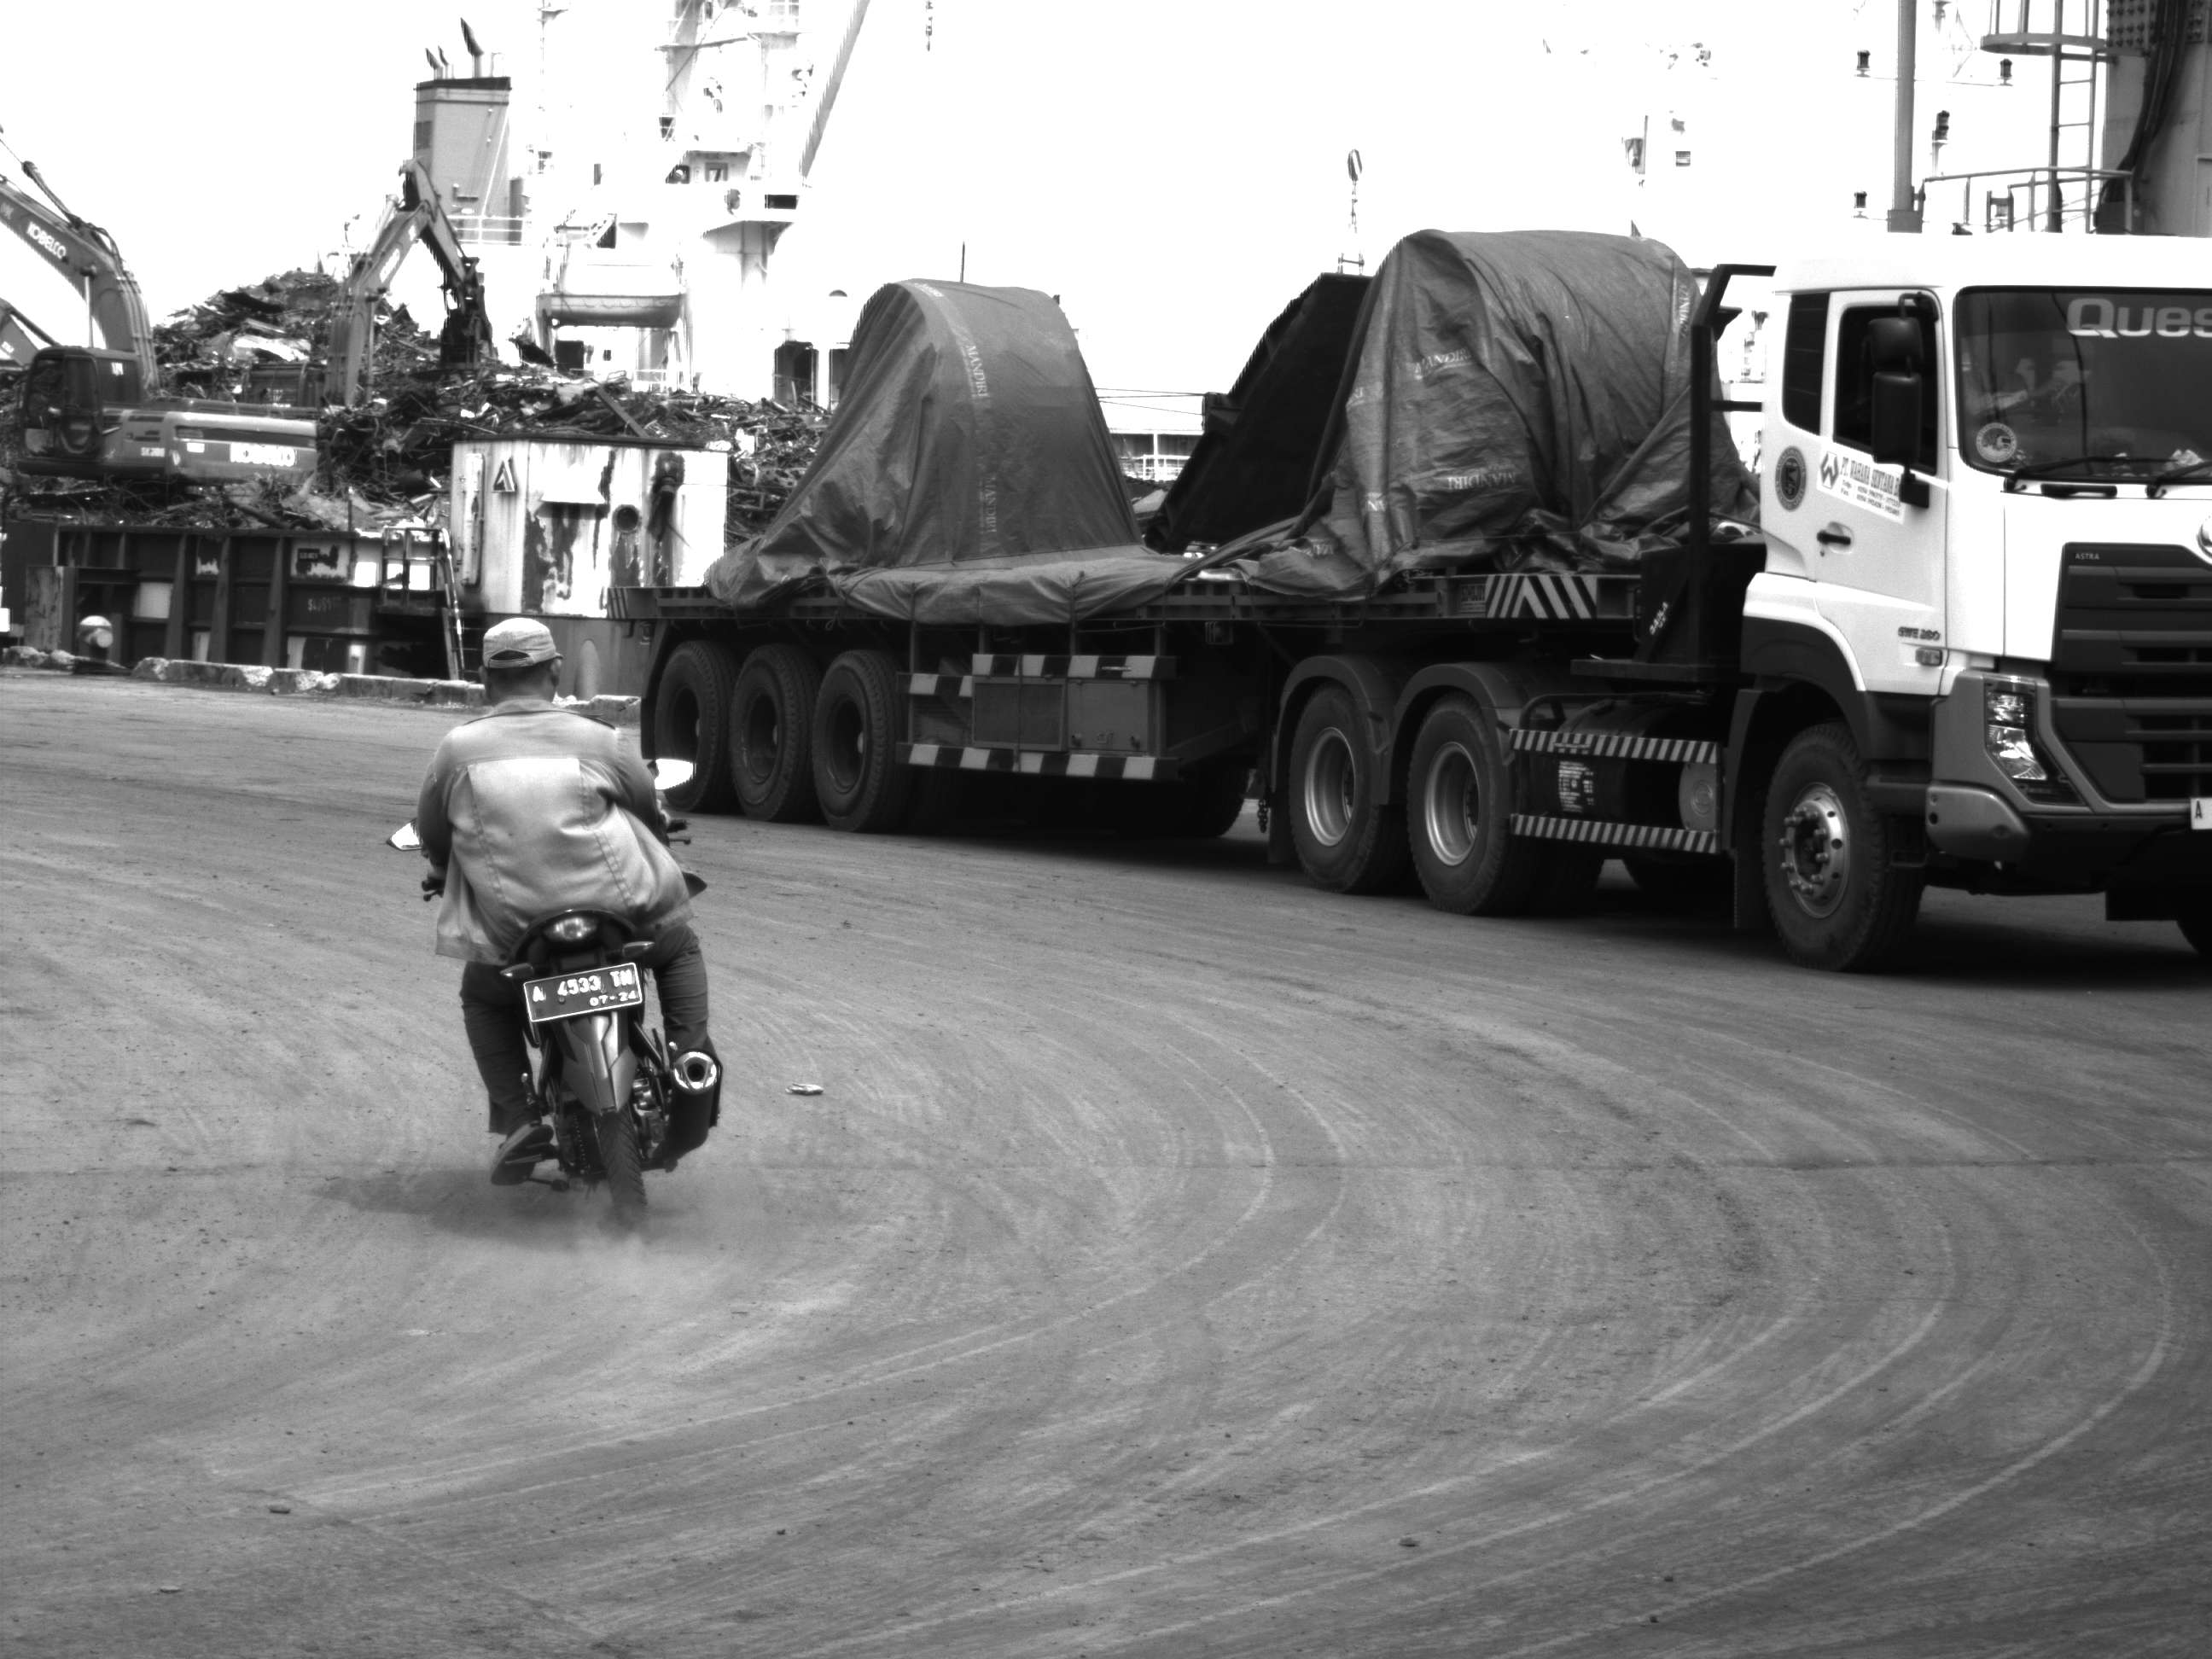motor_bike: (448, 903, 742, 1229)
person: (407, 612, 715, 907)
truck_side: (602, 218, 2207, 969)
